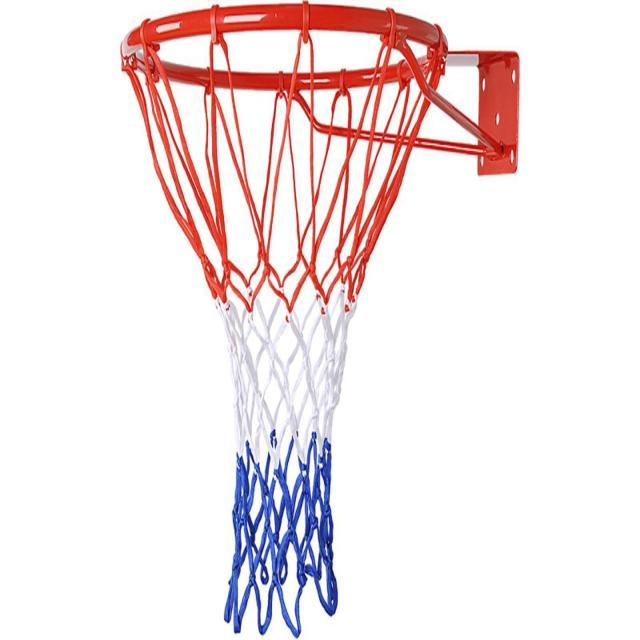hoop: (119, 2, 449, 638)
